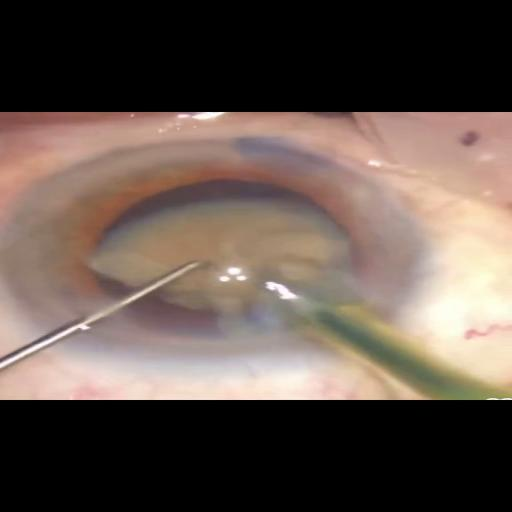catarata: (101, 181, 347, 331)
cornea: (9, 127, 421, 363)
pupil: (63, 166, 384, 332)
